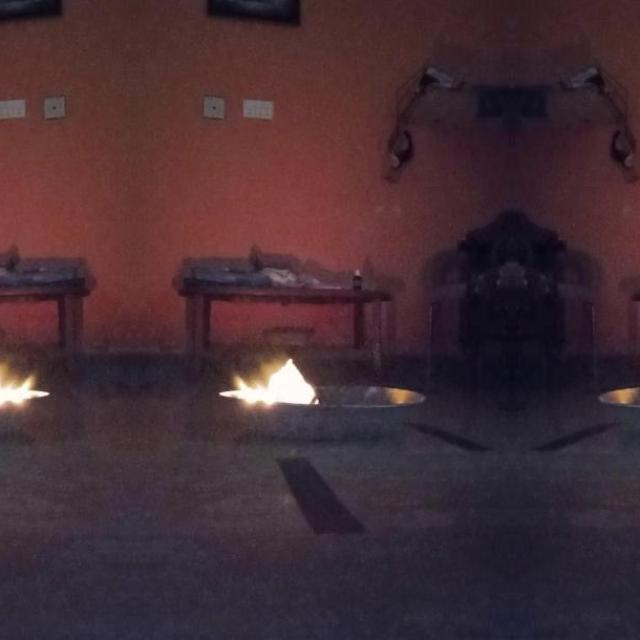smoke: (225, 356, 322, 406), (0, 356, 44, 406)
